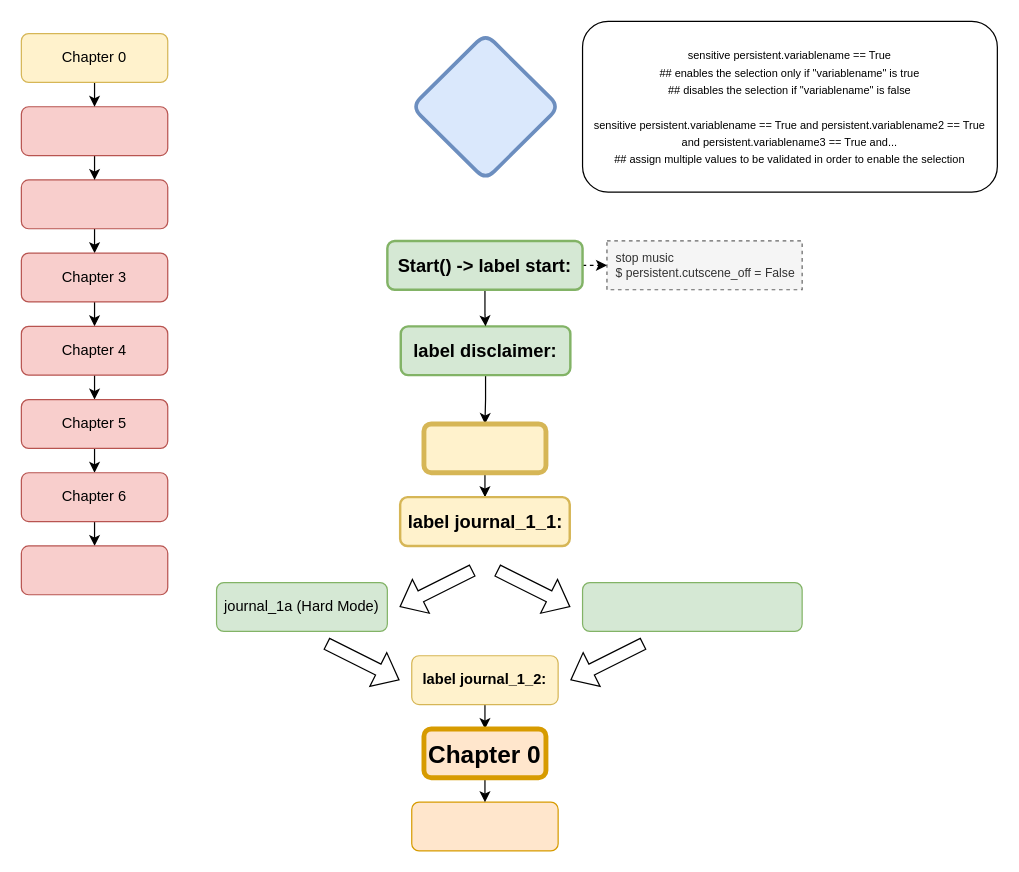
This 1019x872 diagram has some shape labels left out. Here are the shapes that lost their labels. From the top down, the box of each, then its label:
(409, 31, 561, 181): Story Progression
(20, 106, 168, 156): Chapter 1
(20, 179, 168, 229): Chapter 2
(421, 421, 548, 475): Journal 1
(20, 545, 168, 595): Chapter 7
(581, 581, 802, 631): journal_1b (Easy Mode): $ current_love_Claudia+=25
(411, 801, 558, 851): label chapter_0_1:
